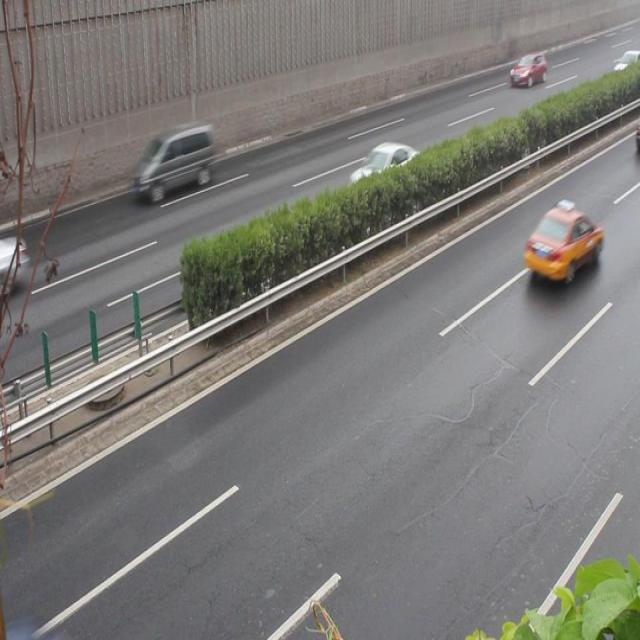car: (524, 202, 602, 284), (350, 140, 425, 208), (1, 233, 31, 292), (509, 52, 546, 90)
truck: (132, 120, 215, 204)
